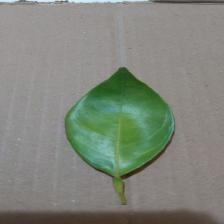greening: (63, 64, 179, 208)
